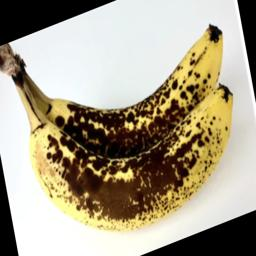Banana Rotten: (7, 27, 256, 256)
